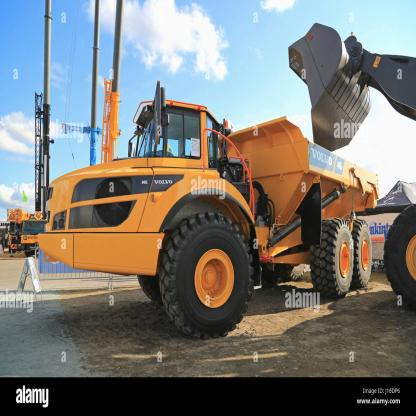dump_truck: (31, 90, 382, 342)
